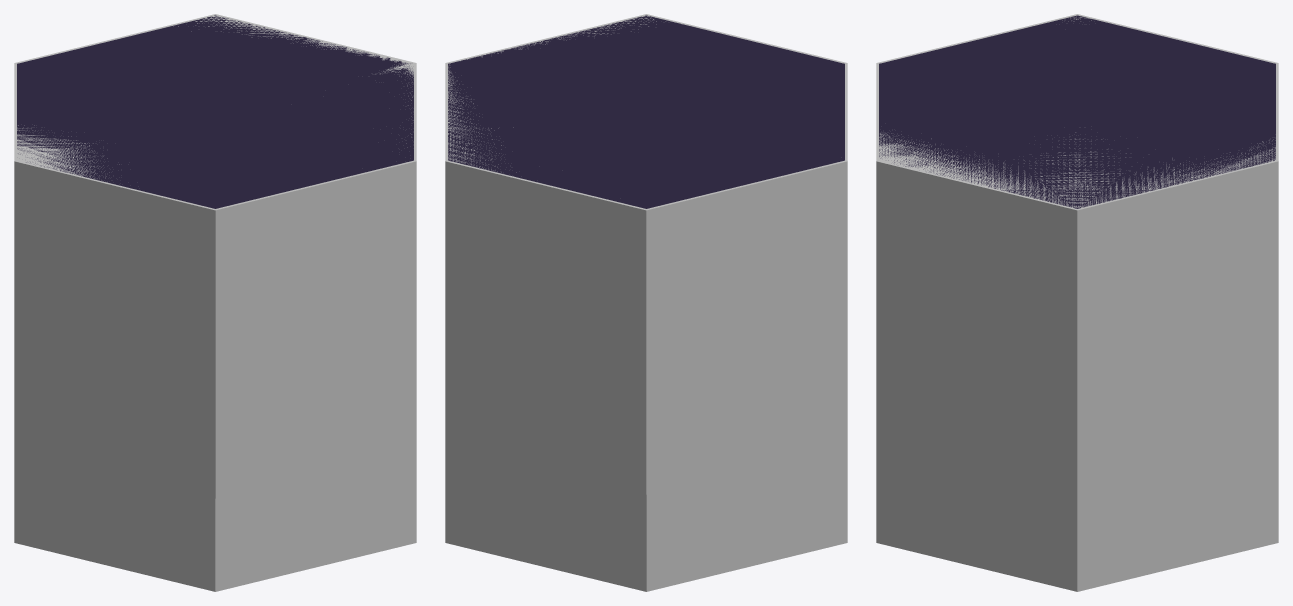
File: SM_Skyscraper_04.fbx
3 views of the same model, side by side, from view 1: azimuth 30°, elevation 25°; view 2: azimuth 150°, elevation 25°; view 3: azimuth 270°, elevation 25° (orthographic).
Parts seen in each view (by area): view 1: SM_Skyscraper_04_ConvexHulls, SM_Skyscraper_04; view 2: SM_Skyscraper_04_ConvexHulls, SM_Skyscraper_04; view 3: SM_Skyscraper_04_ConvexHulls, SM_Skyscraper_04.
Part boxes in pixels (x1=…): SM_Skyscraper_04_ConvexHulls: x1=14, y1=14, x2=416, y2=591; SM_Skyscraper_04: x1=17, y1=15, x2=413, y2=208; SM_Skyscraper_04_ConvexHulls: x1=445, y1=14, x2=847, y2=591; SM_Skyscraper_04: x1=448, y1=15, x2=844, y2=208; SM_Skyscraper_04_ConvexHulls: x1=876, y1=14, x2=1278, y2=591; SM_Skyscraper_04: x1=879, y1=15, x2=1275, y2=208.
Bounding box in the file's own units: 1656 × 1434 × 1500.
2 materials, 1 textured.
